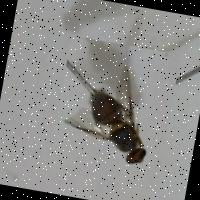Oriental-fruit-fly: (46, 34, 179, 189)
